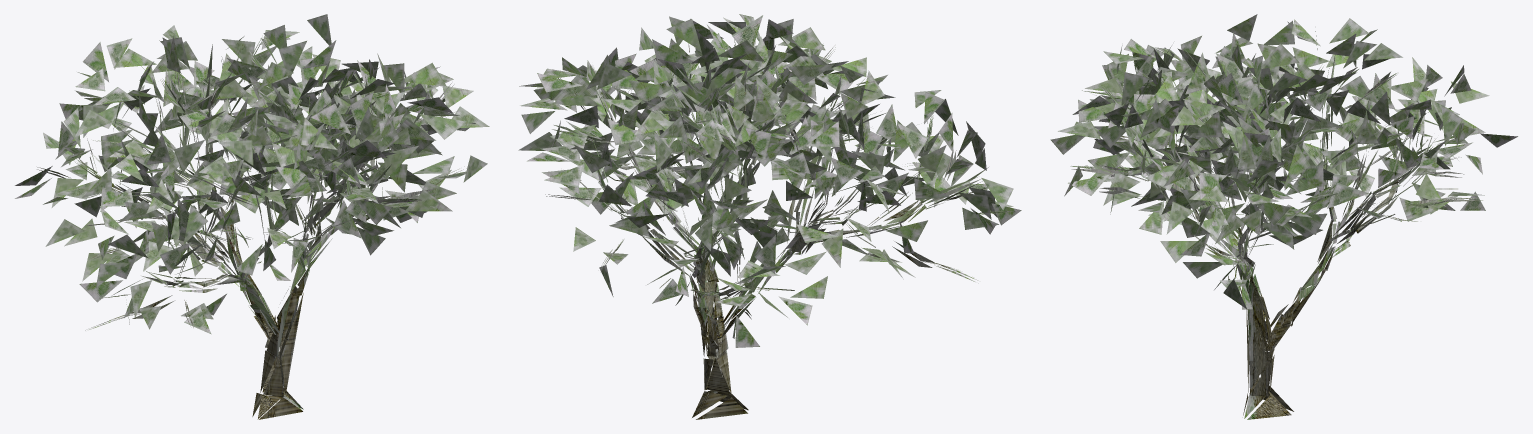
3 views of the same model, side by side, from view 1: azimuth 30°, elevation 25°; view 2: azimuth 150°, elevation 25°; view 3: azimuth 270°, elevation 25° (orthographic).
Visible parts, largest first — view 1: pMesh1; view 2: pMesh1; view 3: pMesh1.
Part boxes in pixels (x1=…): pMesh1: x1=15, y1=14, x2=489, y2=419; pMesh1: x1=518, y1=14, x2=1021, y2=419; pMesh1: x1=1050, y1=14, x2=1517, y2=419.
Bounding box in the file's own units: 359 × 288 × 331.
